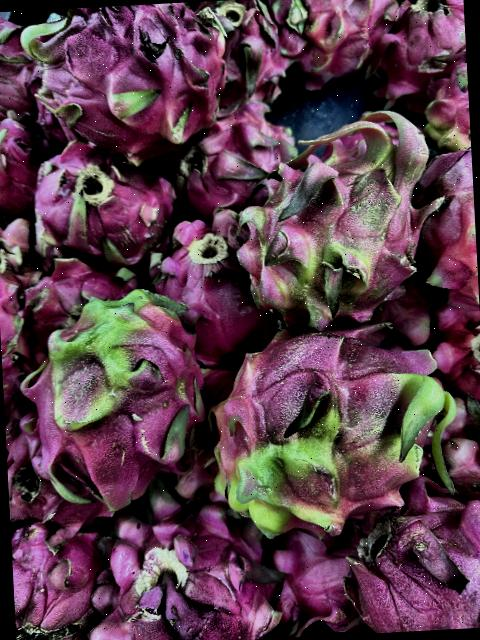buah-naga-belum-matang: (212, 314, 471, 536), (18, 278, 212, 520), (238, 104, 436, 322), (411, 54, 471, 152)
buah-naga-matang: (18, 0, 235, 158), (87, 509, 277, 640), (25, 136, 174, 264), (336, 503, 480, 635), (143, 210, 275, 348), (166, 104, 301, 206), (189, 0, 296, 116), (10, 519, 112, 640), (266, 0, 395, 80), (379, 0, 467, 92), (0, 111, 41, 218), (0, 11, 37, 126)
